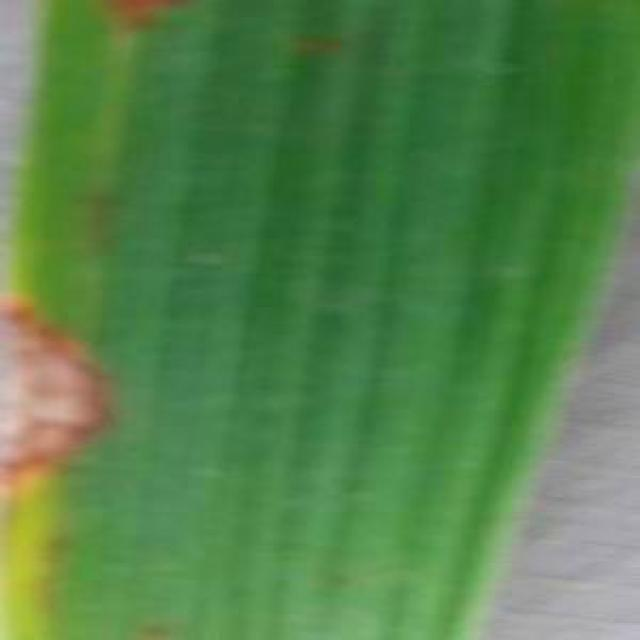Rice_Blast: (0, 264, 137, 527)
